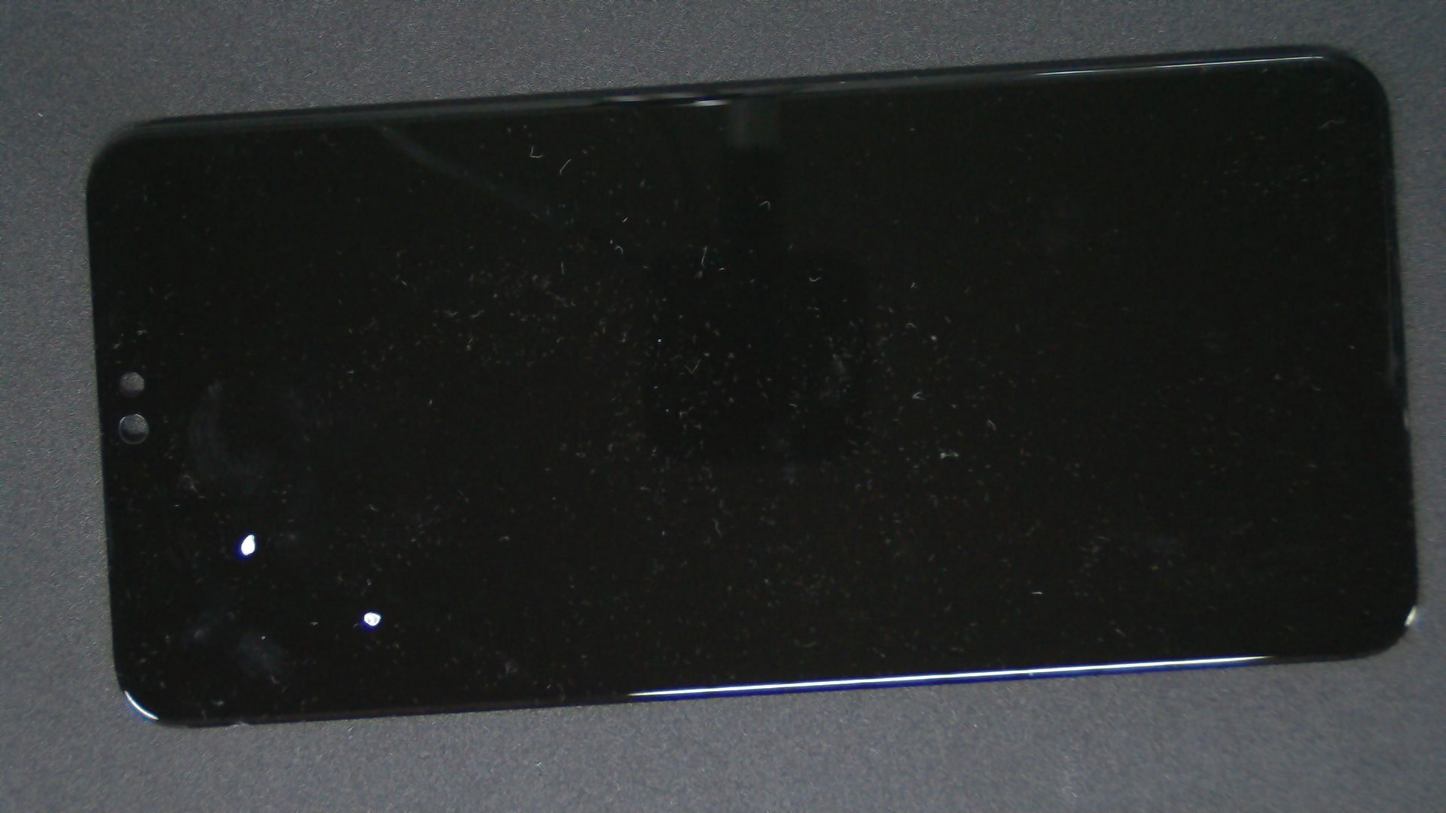Dislodged Screen: (333, 571, 427, 677), (208, 514, 285, 586)
